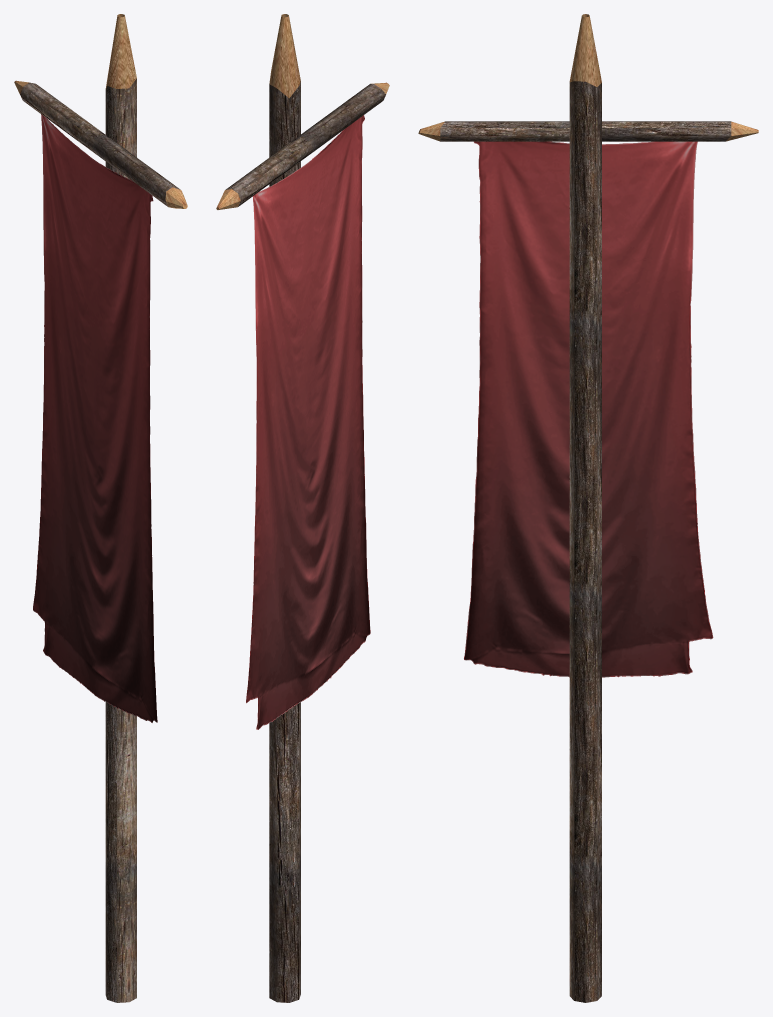
Rendered from banner_red.FBX.
3 views of the same model, side by side, from view 1: azimuth 30°, elevation 25°; view 2: azimuth 150°, elevation 25°; view 3: azimuth 270°, elevation 25° (orthographic).
Visible parts, largest first — view 1: Banner, Pole; view 2: Banner, Pole; view 3: Banner, Pole.
Part boxes in pixels (x1,y1,x2,y2): Banner: [33, 114, 157, 722]; Pole: [14, 14, 187, 1002]; Banner: [246, 115, 370, 729]; Pole: [216, 14, 389, 1002]; Banner: [464, 141, 713, 677]; Pole: [418, 14, 758, 1002].
Size of the model in its own units: 3 by 66.13 by 20.79.
Materials: 3 (3 with a texture image).
